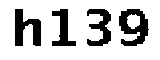1: (49, 5, 79, 50)
3: (85, 5, 113, 49)
9: (118, 6, 151, 53)
h: (9, 6, 43, 49)
